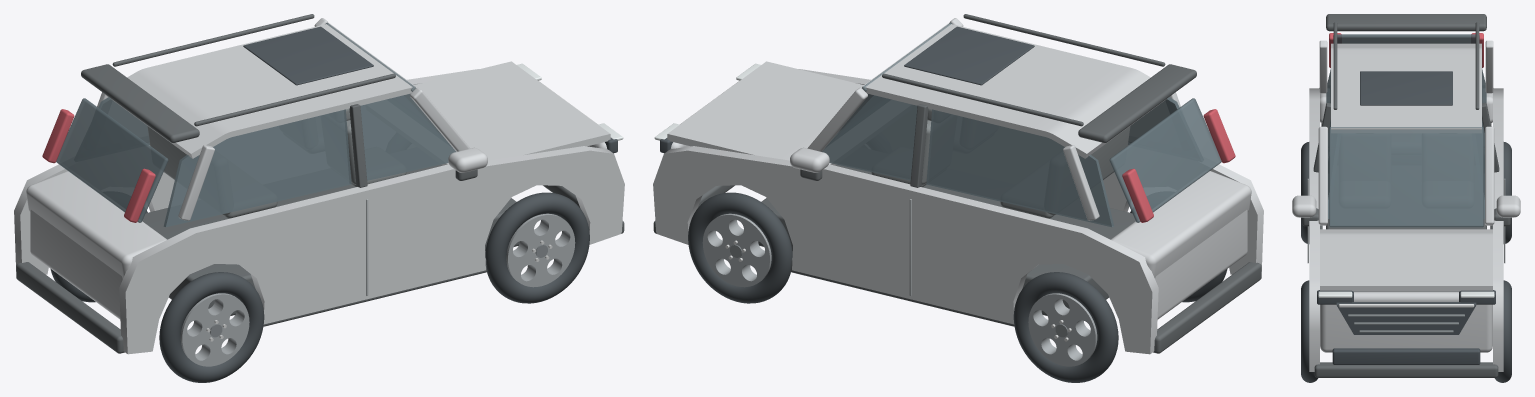
The picture shows the model from 3 angles, left to right: view 1: azimuth 30°, elevation 25°; view 2: azimuth 150°, elevation 25°; view 3: azimuth 270°, elevation 25°; orthographic projection. The views are drawn at different scales.
Parts seen in each view (by area): view 1: body0, roof, rear_window0, hood, wheel_front_right, wheel_rear_right, rear_deck, rear_glass, front_window0, sunroof, rear_hatch, roof_spoiler (+14 smaller); view 2: body1, roof, rear_window1, hood, wheel_front_left, wheel_rear_left, rear_deck, rear_glass, front_window1, sunroof, rear_hatch, roof_spoiler (+14 smaller); view 3: windshield, hood, roof, front_fascia, grille, sunroof, roof_spoiler, body0, body1, lower_grille, front_bumper, rear_glass (+24 smaller).
Boxes of the visible parts, box(x1,y1,x2,y2) form: body0: box(119, 146, 624, 354); roof: box(106, 23, 415, 158); rear_window0: box(163, 109, 351, 227); hood: box(414, 61, 610, 165); wheel_front_right: box(485, 192, 589, 303); wheel_rear_right: box(159, 272, 264, 382); rear_deck: box(26, 171, 167, 278); rear_glass: box(56, 98, 168, 222); front_window0: box(360, 95, 455, 180); sunroof: box(243, 26, 373, 85); rear_hatch: box(30, 210, 122, 319); roof_spoiler: box(81, 64, 199, 142); body1: box(653, 146, 1158, 354); roof: box(862, 23, 1171, 158); rear_window1: box(926, 109, 1114, 227); hood: box(667, 61, 863, 165); wheel_front_left: box(688, 192, 792, 303); wheel_rear_left: box(1013, 272, 1118, 382); rear_deck: box(1110, 171, 1251, 278); rear_glass: box(1109, 98, 1221, 222); front_window1: box(822, 95, 917, 180); sunroof: box(904, 26, 1034, 85); rear_hatch: box(1155, 210, 1247, 319); roof_spoiler: box(1078, 64, 1196, 142); windshield: box(1329, 127, 1483, 227); hood: box(1320, 229, 1492, 291); roof: box(1331, 43, 1481, 132); front_fascia: box(1320, 292, 1492, 352); grille: box(1336, 302, 1476, 334); sunroof: box(1360, 71, 1452, 105); roof_spoiler: box(1326, 14, 1486, 31); body0: box(1309, 88, 1319, 371); body1: box(1493, 88, 1503, 371); lower_grille: box(1332, 348, 1480, 364); front_bumper: box(1314, 362, 1498, 377); rear_glass: box(1333, 34, 1479, 43).
Bounding box in the file's own units: 4.61 × 2.14 × 2.05.
